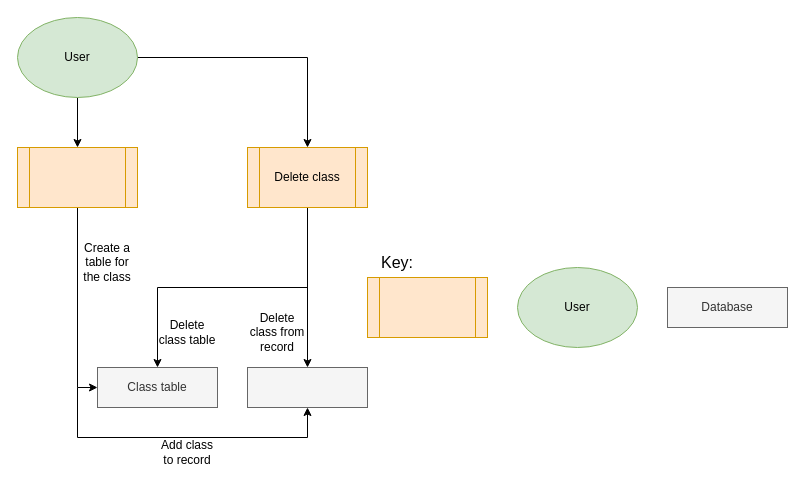
Some shapes in this 805 by 485 pixel diagram are drawn without their labels. The shapes that lost their labels are listed below. From the top down, each one's centre as x and y in pixels, then its label:
At point (77, 177): "Create class".
At point (427, 307): "Process".
At point (307, 387): "Classes record".
